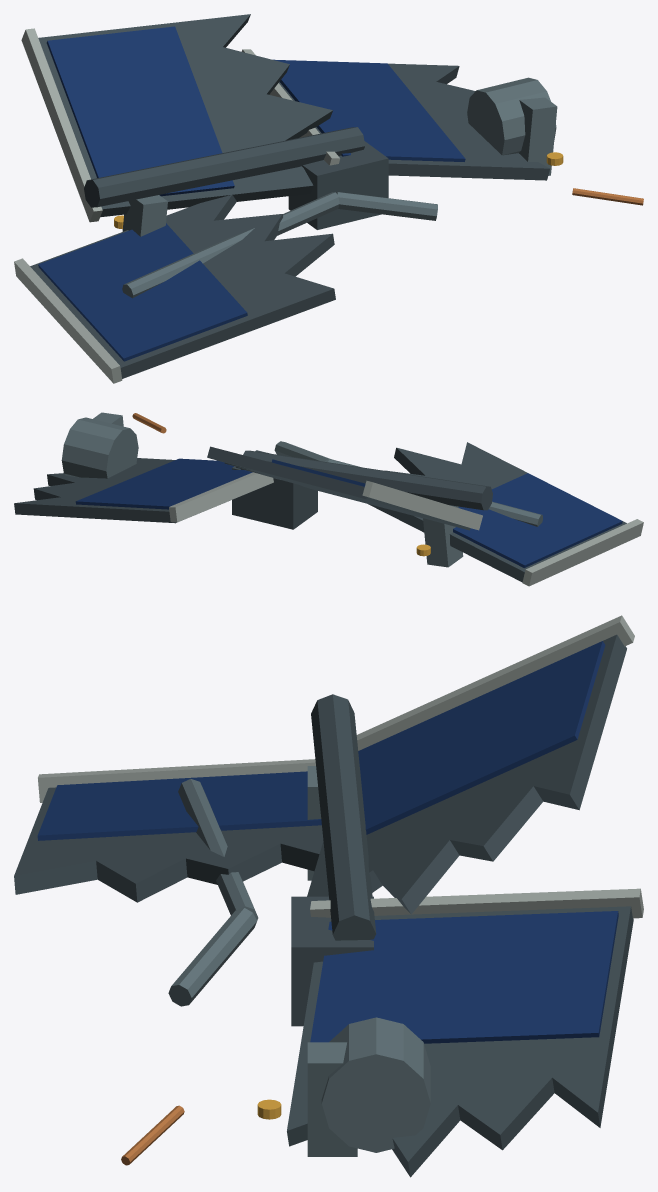
File: solar_panel_rack_d3.glb
3 renders of one model, top to bottom at view 1: azimuth 30°, elevation 25°; view 2: azimuth 150°, elevation 25°; view 3: azimuth 270°, elevation 25°, orthographic. The views are drawn at different scales.
Parts seen in each view (by area): view 1: SOLAR_GAME_MESH; view 2: SOLAR_GAME_MESH; view 3: SOLAR_GAME_MESH.
Boxes of the visible parts, x1=… form: SOLAR_GAME_MESH: x1=14, y1=14, x2=643, y2=383; SOLAR_GAME_MESH: x1=14, y1=412, x2=643, y2=586; SOLAR_GAME_MESH: x1=14, y1=615, x2=643, y2=1177.
Bounding box in the file's own units: 4.37 × 1.34 × 2.89.
